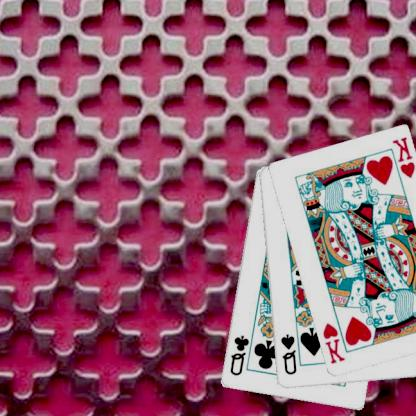KH: (322, 320, 348, 366), (391, 135, 416, 180)
QC: (228, 332, 251, 378)
QS: (279, 331, 299, 376)
